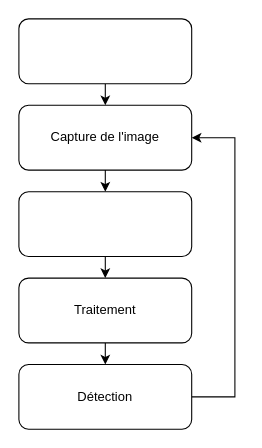
Image size: 262x448. Some labels were removed from this diagram. Each missing label, with the centre of its shape:
Initialisation de la caméra: the point at 105,51
Prétraitement: the point at 105,223
